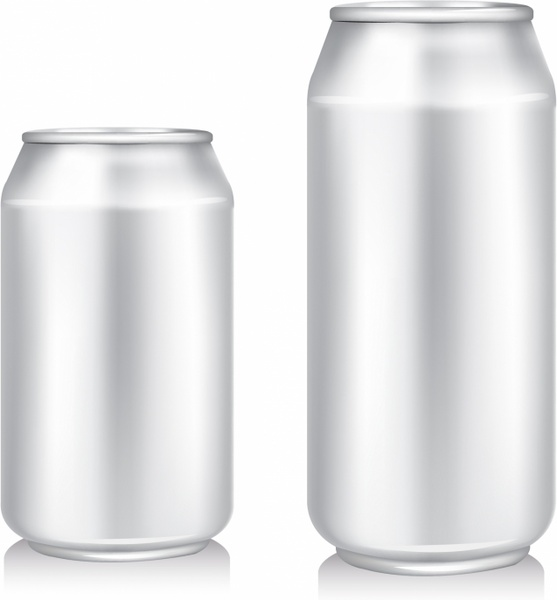beer can: (302, 3, 557, 571), (1, 117, 240, 571)
